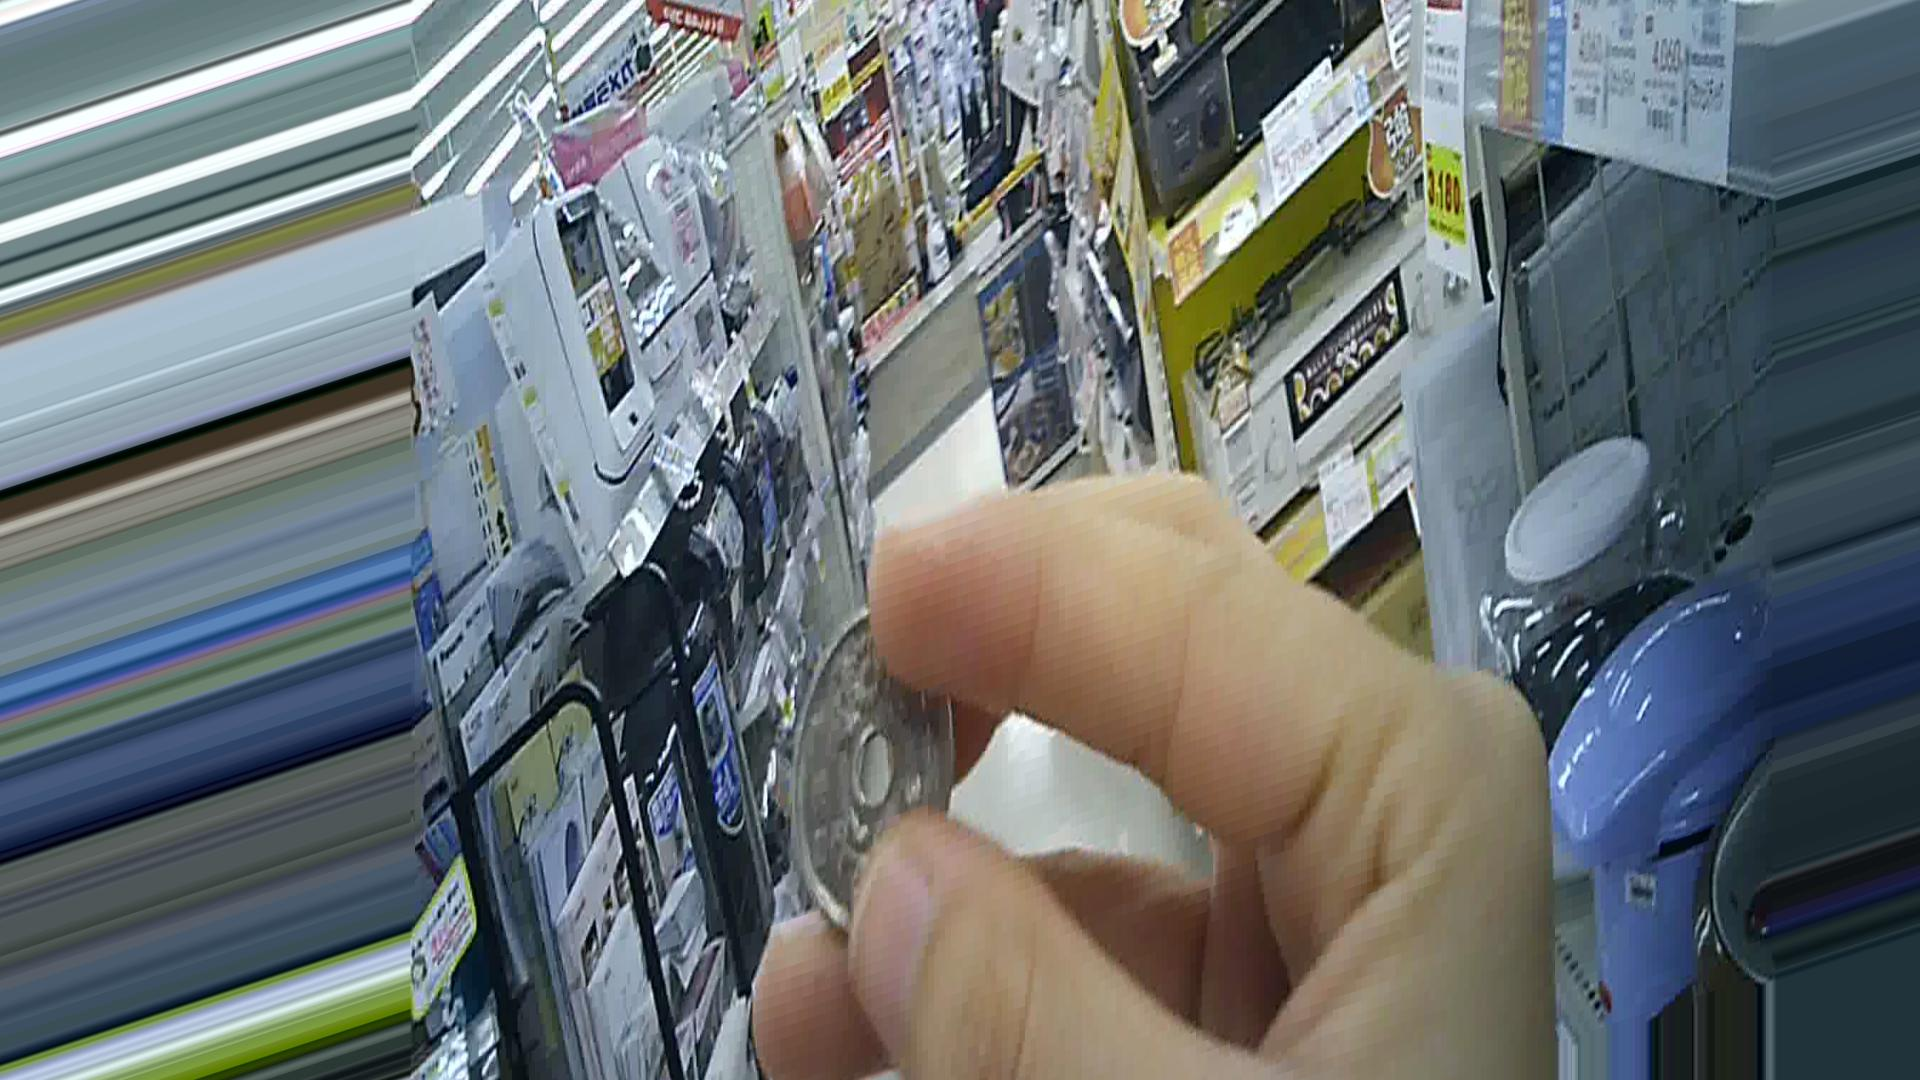50 Yen: (767, 616, 959, 923)
